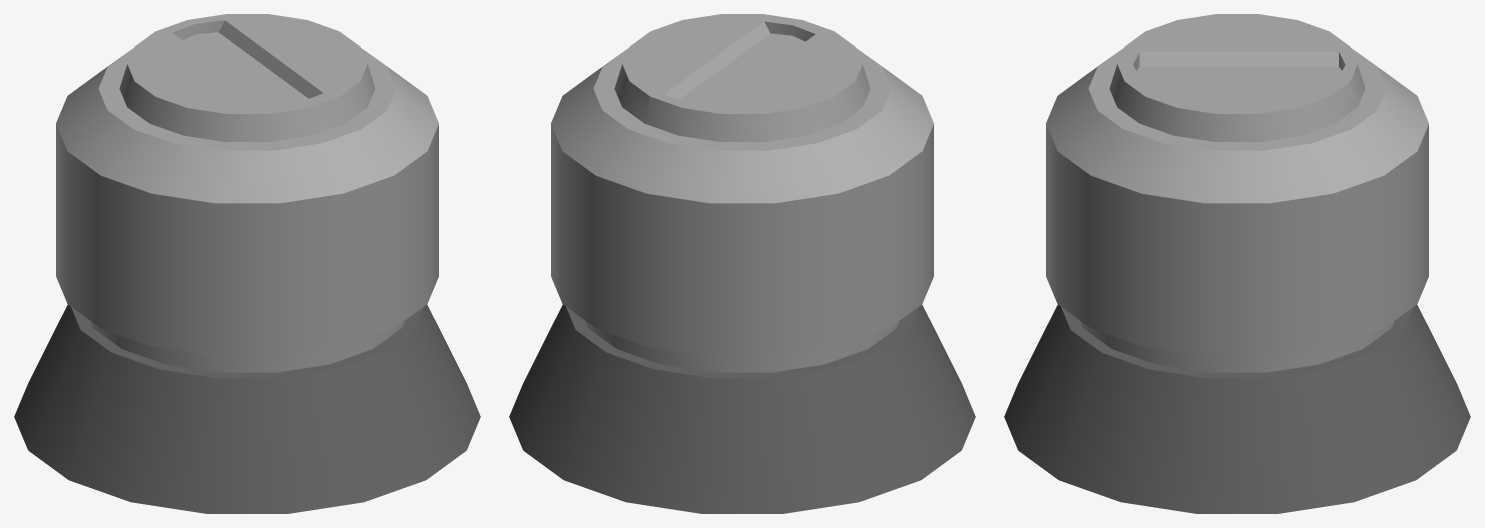
Rendered from Roof_Opening-transformed.glb.
3 views of the same model, side by side, from view 1: azimuth 30°, elevation 25°; view 2: azimuth 150°, elevation 25°; view 3: azimuth 270°, elevation 25° (orthographic).
Parts seen in each view (by area): view 1: Roof_Opening; view 2: Roof_Opening; view 3: Roof_Opening.
Boxes of the visible parts, bbox=[...] form: Roof_Opening: bbox=[14, 14, 480, 513]; Roof_Opening: bbox=[509, 14, 975, 513]; Roof_Opening: bbox=[1004, 14, 1470, 513].
Size of the model in its own units: 1.41 by 1.2 by 1.43.
Materials: 1 (1 with a texture image).
